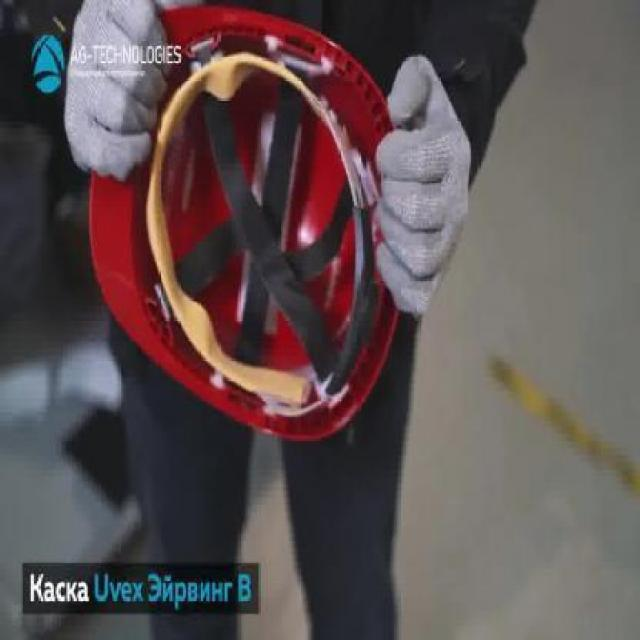Gloves: (372, 50, 472, 324), (63, 1, 177, 184)
Helmet: (86, 0, 402, 445)
